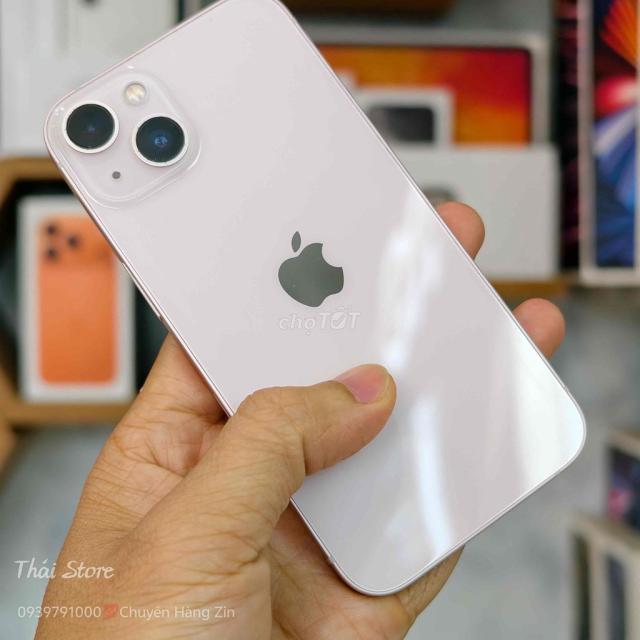gen_12_13: (41, 0, 587, 593)
